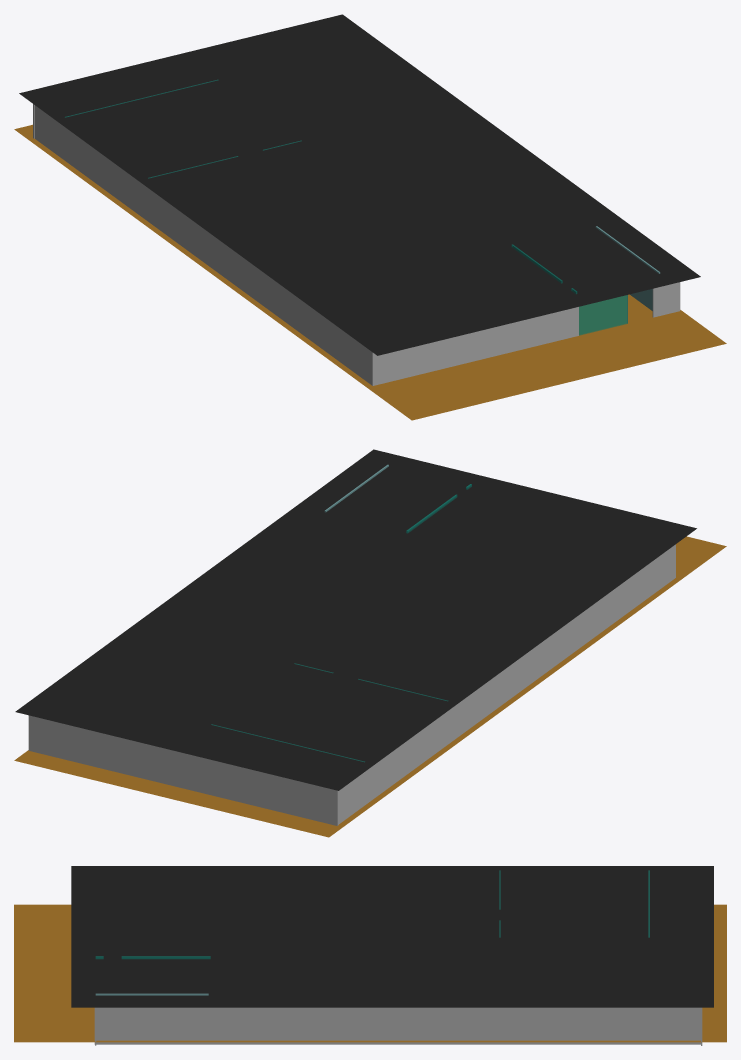
The model's file is mdl.obj.
3 views of the same model, one above another, from view 1: azimuth 30°, elevation 25°; view 2: azimuth 150°, elevation 25°; view 3: azimuth 270°, elevation 25° (orthographic). The views are drawn at different scales.
Visible parts, largest first — view 1: Plane.009_Plane.012, Plane, Cube.006, Cube, Cube.019; view 2: Plane.009_Plane.012, Cube.006, Cube.021, Plane; view 3: Plane.009_Plane.012, Cube.020, Plane, Cube.004, Cube.003.
Boxes of the visible parts, left/top/right/bottom form: Plane.009_Plane.012: left=19, top=14, right=700, bottom=355; Plane: left=14, top=124, right=726, bottom=420; Cube.006: left=34, top=105, right=373, bottom=385; Cube: left=374, top=282, right=680, bottom=385; Cube.019: left=579, top=295, right=627, bottom=335; Plane.009_Plane.012: left=15, top=449, right=696, bottom=790; Cube.006: left=338, top=544, right=675, bottom=824; Cube.021: left=28, top=715, right=338, bottom=825; Plane: left=14, top=536, right=726, bottom=837; Plane.009_Plane.012: left=71, top=866, right=713, bottom=1007; Cube.020: left=94, top=1007, right=700, bottom=1044; Plane: left=14, top=904, right=726, bottom=1042; Cube.004: left=95, top=956, right=210, bottom=959; Cube.003: left=95, top=993, right=208, bottom=995.
Bounding box in the file's own units: 32.75 × 4.82 × 69.71.
